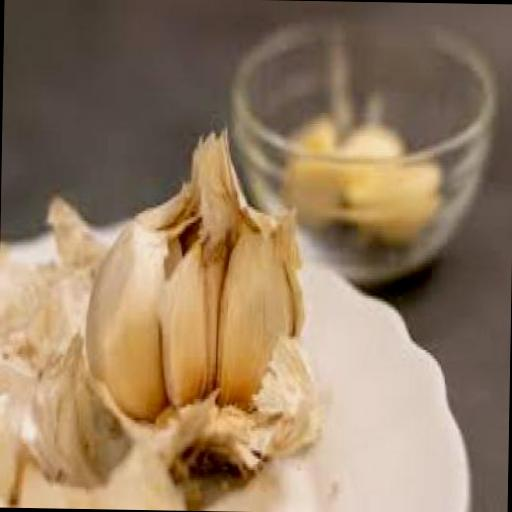biodegradable: (83, 123, 325, 508), (82, 201, 206, 419), (18, 320, 130, 490), (215, 210, 293, 404), (28, 186, 110, 347), (160, 216, 212, 400), (355, 156, 447, 250), (284, 110, 344, 222), (338, 116, 405, 207), (0, 235, 42, 358), (200, 234, 230, 398), (0, 359, 26, 504)
